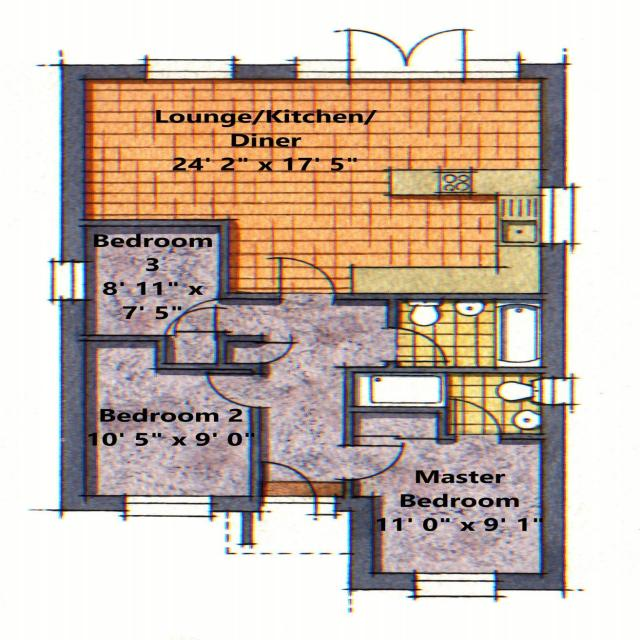DOOR: (341, 406, 569, 600), (275, 255, 345, 306), (254, 458, 323, 508), (163, 293, 233, 342), (440, 394, 506, 444), (336, 442, 412, 484), (383, 324, 453, 366), (201, 370, 270, 411), (168, 304, 224, 342)
DOUBLE DOOR: (340, 24, 470, 79)
ROOM: (57, 26, 582, 304), (58, 334, 267, 520), (50, 218, 230, 345)
WINDOW: (409, 568, 502, 600), (535, 185, 579, 248), (120, 492, 216, 520), (142, 57, 239, 83), (291, 57, 354, 82), (461, 56, 524, 81), (538, 377, 575, 407)
